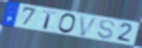2: (115, 22, 135, 44)
7: (21, 6, 39, 28)
O: (57, 13, 77, 35)
S: (96, 19, 117, 40)
T: (42, 11, 58, 31)
V: (78, 15, 99, 38)
